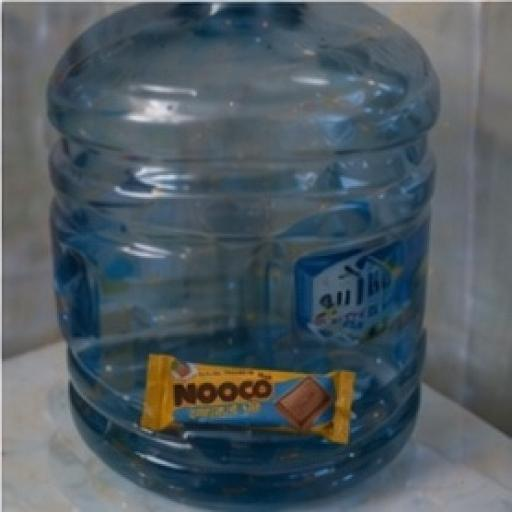biscuit-detection: (128, 329, 376, 484)
